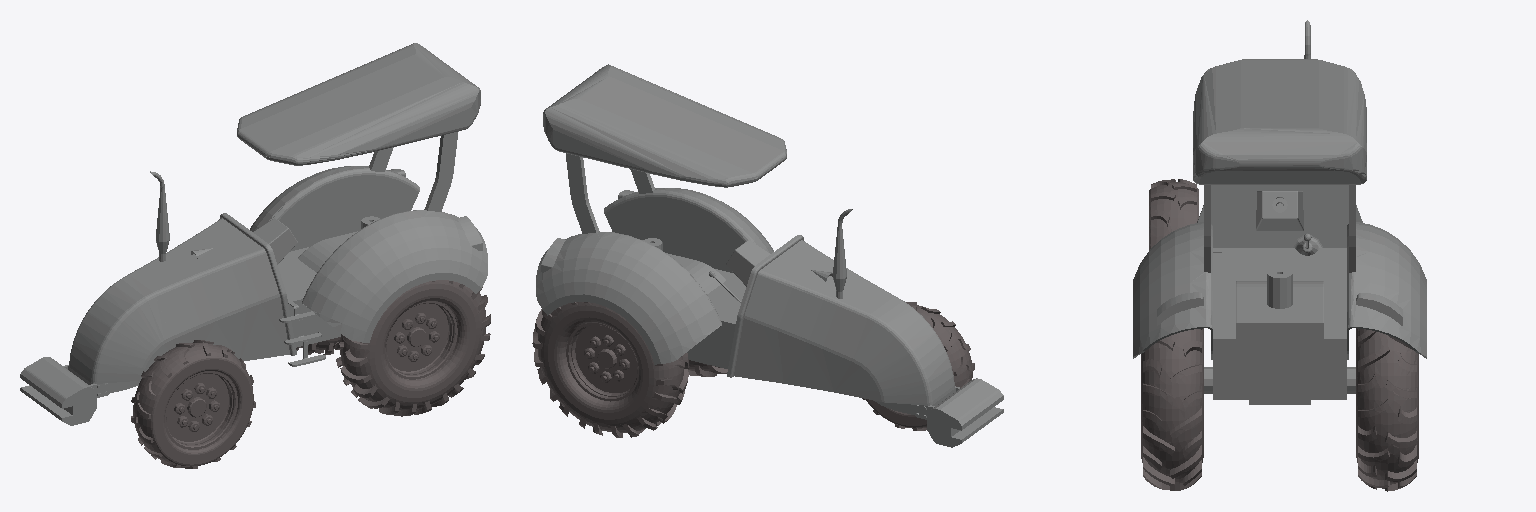
URDF robot description (my_robot):
<?xml version="1.0" encoding="utf-8"?>
<!-- This URDF was automatically created by SolidWorks to URDF Exporter! Originally created by [author] ([email redacted]) 
     Commit Version: 1.6.0-4-g7f85cfe  Build Version: 1.6.7995.38578
     For more information, please see http://wiki.ros.org/sw_urdf_exporter -->
<robot
  name="my_robot">


 <link name="world" />



  <link
    name="base_link">
    <inertial>
      <origin
        xyz="0.0028436 -0.034039 4.0565E-05"
        rpy="0 0 0" />
      <mass
        value="60.1" />
      <inertia
        ixx="0.31782"
        ixy="-0.209"
        ixz="0.00045539"
        iyy="0.83341"
        iyz="0.00020479"
        izz="1.0223" />
    </inertial>
    <visual>
      <origin
        xyz="0 0 0"
        rpy="0 0 0" />
      <geometry>
        <mesh
          filename="package://my_robot/meshes/base_link.STL" />
      </geometry>
      <material
        name="">
        <color
          rgba="0.57255 0.57647 0.57647 1" />
      </material>
    </visual>
    <collision>
      <origin
        xyz="0 0 0"
        rpy="0 0 0" />
      <geometry>
        <mesh
          filename="package://my_robot/meshes/base_link.STL" />
      </geometry>
    </collision>
  </link>

  <joint name="world_to_base" type="fixed">
  <parent link="world"/>
  <child link="base_link"/>
  <origin xyz="0 0 0" rpy="0 0 0"/>
</joint>


  <link
    name="link_f_r">
    <inertial>
      <origin
        xyz="-2.88657979602425E-08 -0.0277269266239377 0.0157057560395292"
        rpy="0 0 0" />
      <mass
        value="0.135994744058479" />
      <inertia
        ixx="3.64634346445373E-05"
        ixy="3.57731733676339E-11"
        ixz="2.13056608406061E-11"
        iyy="3.41959117675972E-05"
        iyz="2.07855922549413E-06"
        izz="8.8093054111005E-06" />
    </inertial>
    <visual>
      <origin
        xyz="0 0 0"
        rpy="0 0 0" />
      <geometry>
        <mesh
          filename="package://my_robot/meshes/link_f_r.STL" />
      </geometry>
      <material
        name="">
        <color
          rgba="0.776470588235294 0.776470588235294 0.819607843137255 1" />
      </material>
    </visual>
    <collision>
      <origin
        xyz="0 0 0"
        rpy="0 0 0" />
      <geometry>
        <mesh
          filename="package://my_robot/meshes/link_f_r.STL" />
      </geometry>
    </collision>
  </link>
  <joint
    name="joint_f_r"
    type="revolute">
    <origin
      xyz="-0.11936 0.03 -0.083652"
      rpy="1.5708 0 3.1403" />
    <parent
      link="base_link" />
    <child
      link="link_f_r" />
    <axis
      xyz="0 1 0" />
    <limit
      lower="0"
      upper="0"
      effort="0"
      velocity="0" />
  </joint>
  <link
    name="link_f_r_w">
    <inertial>
      <origin
        xyz="-3.48050477327888E-11 -3.49514064912348E-09 0.0193015459055894"
        rpy="0 0 0" />
      <mass
        value="2.57224227872849" />
      <inertia
        ixx="0.00328931016603337"
        ixy="3.89005920147955E-11"
        ixz="1.12954391005008E-11"
        iyy="0.00328931075597657"
        iyz="5.98754600007619E-11"
        izz="0.00610927992549753" />
    </inertial>
    <visual>
      <origin
        xyz="0 0 0"
        rpy="0 0 0" />
      <geometry>
        <mesh
          filename="package://my_robot/meshes/link_f_r_w.STL" />
      </geometry>
      <material
        name="">
        <color
          rgba="0.43921568627451 0.411764705882353 0.411764705882353 1" />
      </material>
    </visual>
    <collision>
      <origin
        xyz="0 0 0"
        rpy="0 0 0" />
      <geometry>
        <mesh
          filename="package://my_robot/meshes/link_f_r_w.STL" />
      </geometry>
    </collision>
  </link>
  <joint
    name="joint_f_r_w"
    type="continuous">
    <origin
      xyz="0 -0.0287 0.0315"
      rpy="0 0 -1.5393" />
    <parent
      link="link_f_r" />
    <child
      link="link_f_r_w" />
    <axis
      xyz="0 0 1" />
  </joint>
  <link
    name="link_f_l">
    <inertial>
      <origin
        xyz="-2.88657978908535E-08 -0.0277269266239377 0.0157057560395293"
        rpy="0 0 0" />
      <mass
        value="0.135994744058479" />
      <inertia
        ixx="3.64634346445373E-05"
        ixy="3.57731733683862E-11"
        ixz="2.13056608443697E-11"
        iyy="3.41959117675973E-05"
        iyz="2.07855922549413E-06"
        izz="8.8093054111005E-06" />
    </inertial>
    <visual>
      <origin
        xyz="0 0 0"
        rpy="0 0 0" />
      <geometry>
        <mesh
          filename="package://my_robot/meshes/link_f_l.STL" />
      </geometry>
      <material
        name="">
        <color
          rgba="0.776470588235294 0.776470588235294 0.819607843137255 1" />
      </material>
    </visual>
    <collision>
      <origin
        xyz="0 0 0"
        rpy="0 0 0" />
      <geometry>
        <mesh
          filename="package://my_robot/meshes/link_f_l.STL" />
      </geometry>
    </collision>
  </link>
  <joint
    name="joint_f_l"
    type="revolute">
    <origin
      xyz="-0.11936 -0.03 -0.083652"
      rpy="1.5708 0 -0.0013373" />
    <parent
      link="base_link" />
    <child
      link="link_f_l" />
    <axis
      xyz="0 1 0" />
    <limit
      lower="0"
      upper="0"
      effort="0"
      velocity="0" />
  </joint>
  <link
    name="link_f_l_w">
    <inertial>
      <origin
        xyz="-3.40547867683227E-11 -3.49490128503938E-09 0.0193015459055756"
        rpy="0 0 0" />
      <mass
        value="2.57224227872115" />
      <inertia
        ixx="0.00328931016602001"
        ixy="3.88977840636905E-11"
        ixz="1.12234402425694E-11"
        iyy="0.00328931075597925"
        iyz="5.99468684940932E-11"
        izz="0.00610927992548664" />
    </inertial>
    <visual>
      <origin
        xyz="0 0 0"
        rpy="0 0 0" />
      <geometry>
        <mesh
          filename="package://my_robot/meshes/link_f_l_w.STL" />
      </geometry>
      <material
        name="">
        <color
          rgba="0.43921568627451 0.411764705882353 0.411764705882353 1" />
      </material>
    </visual>
    <collision>
      <origin
        xyz="0 0 0"
        rpy="0 0 0" />
      <geometry>
        <mesh
          filename="package://my_robot/meshes/link_f_l_w.STL" />
      </geometry>
    </collision>
  </link>
  <joint
    name="joint_f_l_w"
    type="continuous">
    <origin
      xyz="0 -0.0287 0.0315"
      rpy="0 0 -0.16944" />
    <parent
      link="link_f_l" />
    <child
      link="link_f_l_w" />
    <axis
      xyz="0 0 1" />
  </joint>
  <link
    name="link_l_w">
    <inertial>
      <origin
        xyz="1.93514776286596E-08 4.47823289839722E-08 0.0240491941638467"
        rpy="0 0 0" />
      <mass
        value="5.33437190224873" />
      <inertia
        ixx="0.0102180607960696"
        ixy="-6.26346556087745E-09"
        ixz="-1.29256158097415E-09"
        iyy="0.0102180458823884"
        iyz="-1.41431817132572E-08"
        izz="0.0189261335122509" />
    </inertial>
    <visual>
      <origin
        xyz="0 0 0"
        rpy="0 0 0" />
      <geometry>
        <mesh
          filename="package://my_robot/meshes/link_l_w.STL" />
      </geometry>
      <material
        name="">
        <color
          rgba="0.43921568627451 0.411764705882353 0.411764705882353 1" />
      </material>
    </visual>
    <collision>
      <origin
        xyz="0 0 0"
        rpy="0 0 0" />
      <geometry>
        <mesh
          filename="package://my_robot/meshes/link_l_w.STL" />
      </geometry>
    </collision>
  </link>
  <joint
    name="joint_l_w"
    type="continuous">
    <origin
      xyz="0.12954 -0.058 -0.093652"
      rpy="1.5708 -1.3692 0" />
    <parent
      link="base_link" />
    <child
      link="link_l_w" />
    <axis
      xyz="0 0 1" />
  </joint>
  <link
    name="link_r_w">
    <inertial>
      <origin
        xyz="1.9203058615469E-08 4.48012880405191E-08 0.0240491941603083"
        rpy="0 0 0" />
      <mass
        value="5.33437190113988" />
      <inertia
        ixx="0.0102180607714631"
        ixy="-6.26437820627074E-09"
        ixz="-1.30802623565512E-09"
        iyy="0.0102180459023867"
        iyz="-1.41420382114478E-08"
        izz="0.0189261335047578" />
    </inertial>
    <visual>
      <origin
        xyz="0 0 0"
        rpy="0 0 0" />
      <geometry>
        <mesh
          filename="package://my_robot/meshes/link_r_w.STL" />
      </geometry>
      <material
        name="">
        <color
          rgba="0.43921568627451 0.411764705882353 0.411764705882353 1" />
      </material>
    </visual>
    <collision>
      <origin
        xyz="0 0 0"
        rpy="0 0 0" />
      <geometry>
        <mesh
          filename="package://my_robot/meshes/link_r_w.STL" />
      </geometry>
    </collision>
  </link>
  <joint
    name="joint_r_w"
    type="continuous">
    <origin
      xyz="0.12954 0.058 -0.093652"
      rpy="1.5708 -0.72515 3.1416" />
    <parent
      link="base_link" />
    <child
      link="link_r_w" />
    <axis
      xyz="0 0 1" />
  </joint>
  <link
    name="link_chair">
    <inertial>
      <origin
        xyz="0.00795646634636779 0.010988413110798 4.54037801315437E-09"
        rpy="0 0 0" />
      <mass
        value="0.0383122914433503" />
      <inertia
        ixx="1.13022448456005E-05"
        ixy="-3.02755555391797E-06"
        ixz="3.68116612603687E-11"
        iyy="1.18628128554467E-05"
        iyz="4.42797352311085E-11"
        izz="1.0803302211531E-05" />
    </inertial>
    <visual>
      <origin
        xyz="0 0 0"
        rpy="0 0 0" />
      <geometry>
        <mesh
          filename="package://my_robot/meshes/link_chair.STL" />
      </geometry>
      <material
        name="">
        <color
          rgba="0.698039215686274 0.698039215686274 0.698039215686274 1" />
      </material>
    </visual>
    <collision>
      <origin
        xyz="0 0 0"
        rpy="0 0 0" />
      <geometry>
        <mesh
          filename="package://my_robot/meshes/link_chair.STL" />
      </geometry>
    </collision>
  </link>
  <joint
    name="joint_chair"
    type="fixed">
    <origin
      xyz="0.12954 0 0"
      rpy="1.5708 0 0" />
    <parent
      link="base_link" />
    <child
      link="link_chair" />
    <axis
      xyz="0 0 0" />
  </joint>
  <link
    name="link_w">
    <inertial>
      <origin
        xyz="7.74741081895763E-08 0.0486768837592625 -7.50635454212136E-07"
        rpy="0 0 0" />
      <mass
        value="0.00423185835861639" />
      <inertia
        ixx="7.86754554500572E-07"
        ixy="-2.23969797466759E-12"
        ixz="1.49194730377266E-11"
        iyy="7.9147029118932E-07"
        iyz="2.37604094505889E-11"
        izz="7.86744961862458E-07" />
    </inertial>
    <visual>
      <origin
        xyz="0 0 0"
        rpy="0 0 0" />
      <geometry>
        <mesh
          filename="package://my_robot/meshes/link_w.STL" />
      </geometry>
      <material
        name="">
        <color
          rgba="0.698039215686274 0.698039215686274 0.698039215686274 1" />
      </material>
    </visual>
    <collision>
      <origin
        xyz="0 0 0"
        rpy="0 0 0" />
      <geometry>
        <mesh
          filename="package://my_robot/meshes/link_w.STL" />
      </geometry>
    </collision>
  </link>
  <joint
    name="joint_w"
    type="fixed">
    <origin
      xyz="0.002429 0 -0.011517"
      rpy="1.9409 0.9276 0.45148" />
    <parent
      link="base_link" />
    <child
      link="link_w" />
    <axis
      xyz="0 0 0" />
  </joint>
</robot>

--- Facts derived from the render (not from the file) ---
3 views of the same robot in one strip: view 1: azimuth 30°, elevation 25°; view 2: azimuth 150°, elevation 25°; view 3: azimuth 270°, elevation 25° (orthographic).
Robot: my_robot — 10 links, 9 joints (2 revolute, 4 continuous, 3 fixed); root link world; default pose: all joints at 0.
Links seen in each view (by area): view 1: base_link, link_l_w, link_f_l_w; view 2: base_link, link_r_w, link_f_l_w; view 3: base_link, link_l_w, link_r_w, link_f_l_w.
Link boxes in pixels (bbox=[...]): base_link: bbox=[20, 43, 487, 425]; link_l_w: bbox=[335, 280, 490, 416]; link_f_l_w: bbox=[131, 340, 255, 468]; base_link: bbox=[536, 64, 1003, 447]; link_r_w: bbox=[532, 302, 688, 437]; link_f_l_w: bbox=[862, 302, 974, 430]; base_link: bbox=[1133, 20, 1426, 404]; link_l_w: bbox=[1141, 328, 1203, 490]; link_r_w: bbox=[1356, 328, 1418, 491]; link_f_l_w: bbox=[1149, 179, 1198, 249].
Bounding box of the posed robot: 0.471 × 0.2236 × 0.328 m (x, y, z).
5 mesh visuals loaded from 9 distinct referenced files (5 binary STL); not drawn: 4 (file found but could not be loaded).